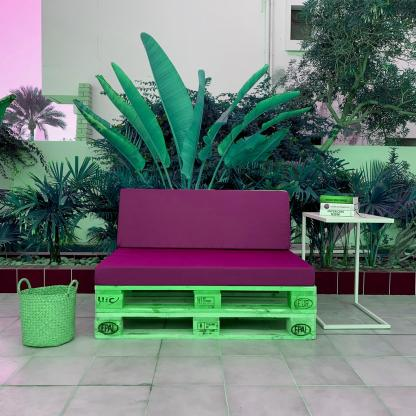BoxFace: (89, 310, 322, 343), (87, 285, 318, 315)
